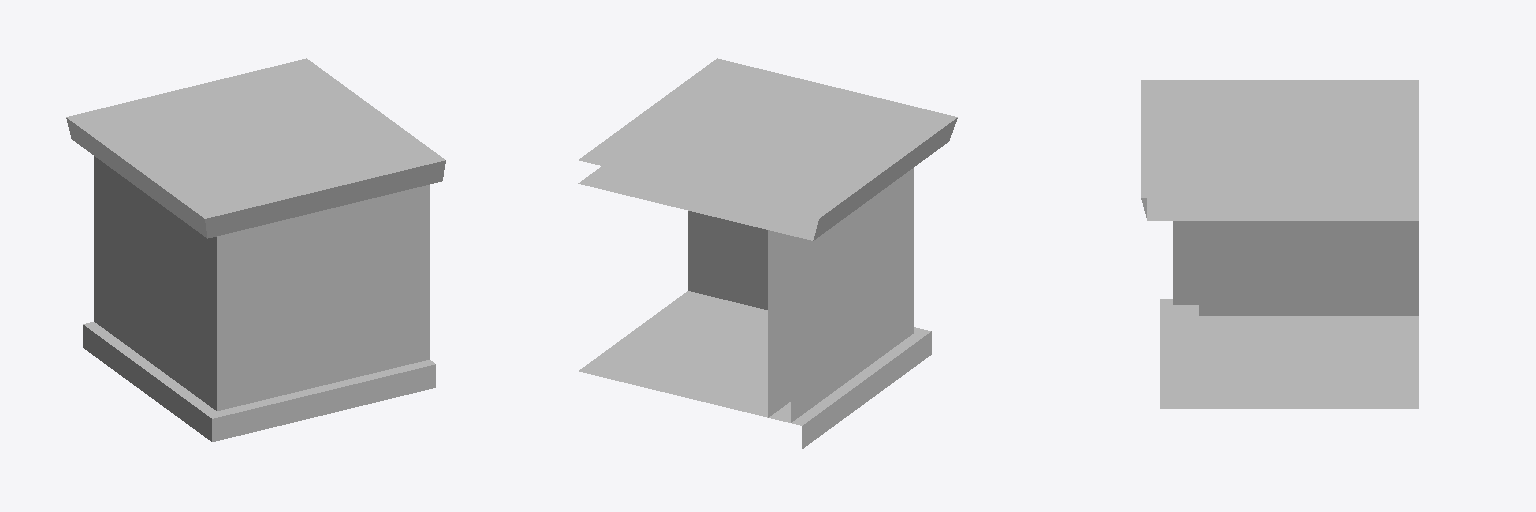
3 views of the same model, side by side, from view 1: azimuth 30°, elevation 25°; view 2: azimuth 150°, elevation 25°; view 3: azimuth 270°, elevation 25° (orthographic).
Visible parts, largest first — view 1: objobjobjobjRegroup07; view 2: objobjobjobjRegroup07; view 3: objobjobjobjRegroup07.
Part boxes in pixels (bbox=[...]): objobjobjobjRegroup07: bbox=[66, 58, 445, 441]; objobjobjobjRegroup07: bbox=[578, 58, 957, 448]; objobjobjobjRegroup07: bbox=[1141, 80, 1418, 408].
Size of the model in its own units: 10.75 by 10 by 10.75.